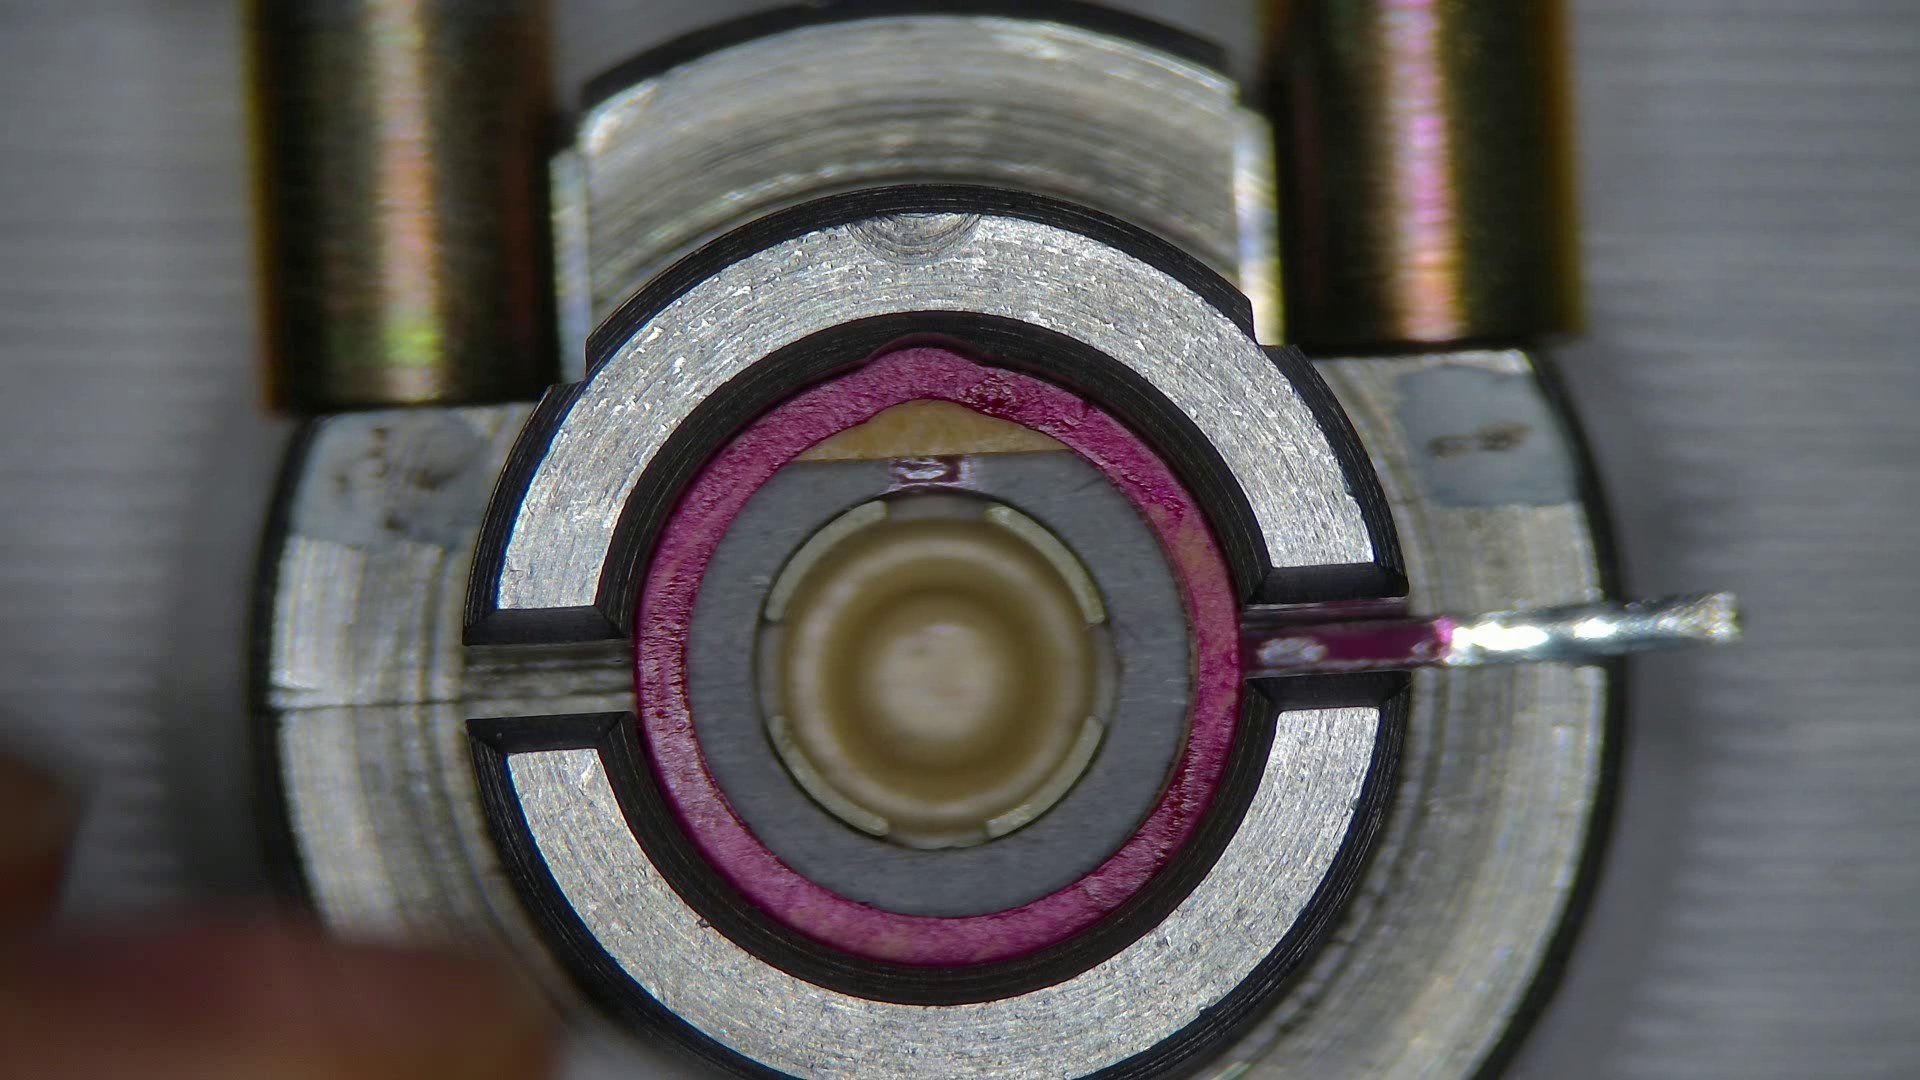GreyOring: (633, 345, 1240, 963)
YellowOring: (690, 454, 1191, 914)
redOring: (794, 401, 1072, 464)
